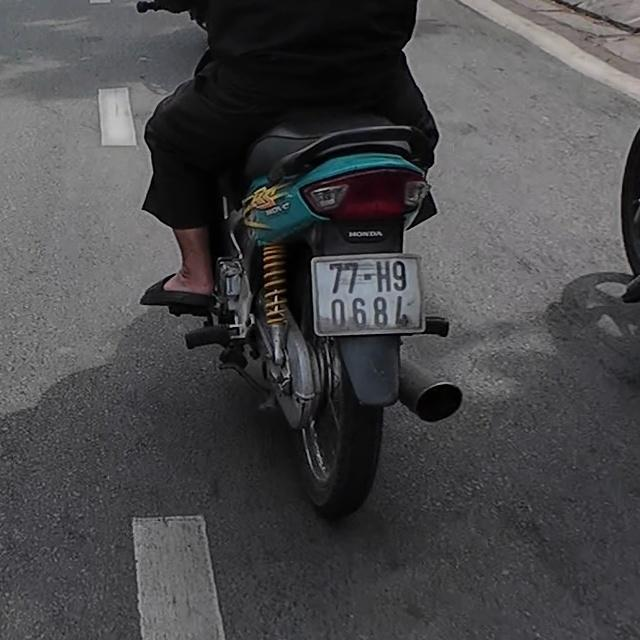motorcycle: (218, 104, 473, 524)
plate: (306, 248, 430, 341)
